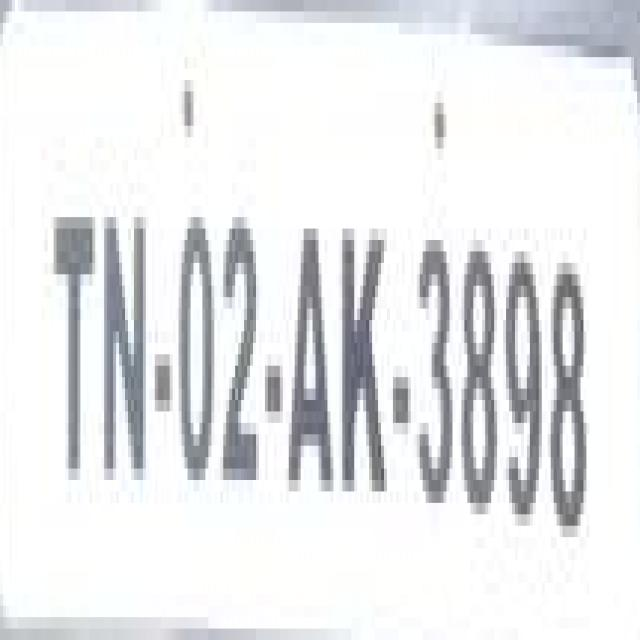license_plate: (24, 23, 640, 617)
